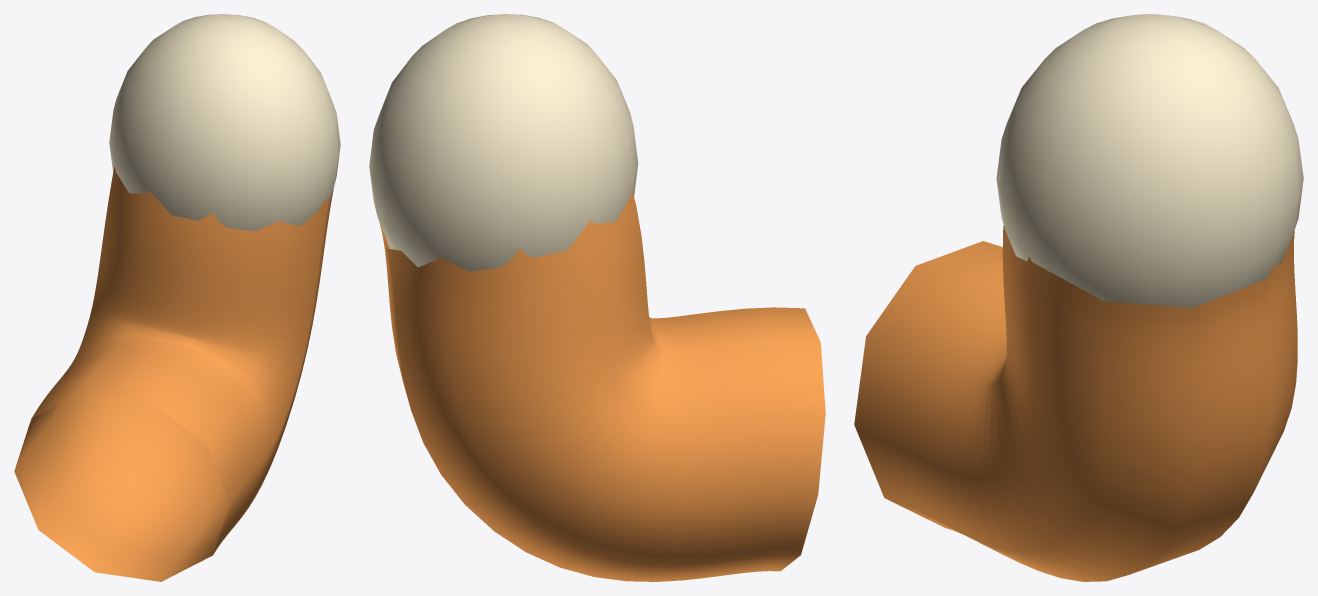
The model's file is fox_tail.glb.
3 views of the same model, side by side, from view 1: azimuth 30°, elevation 25°; view 2: azimuth 150°, elevation 25°; view 3: azimuth 270°, elevation 25° (orthographic). The views are drawn at different scales.
Parts seen in each view (by area): view 1: fox tail; view 2: fox tail; view 3: fox tail.
Boxes of the visible parts, bbox=[...] form: fox tail: bbox=[14, 14, 340, 581]; fox tail: bbox=[369, 14, 825, 581]; fox tail: bbox=[854, 14, 1303, 581].
Bounding box in the file's own units: 0.6181 × 0.8092 × 0.5558.
